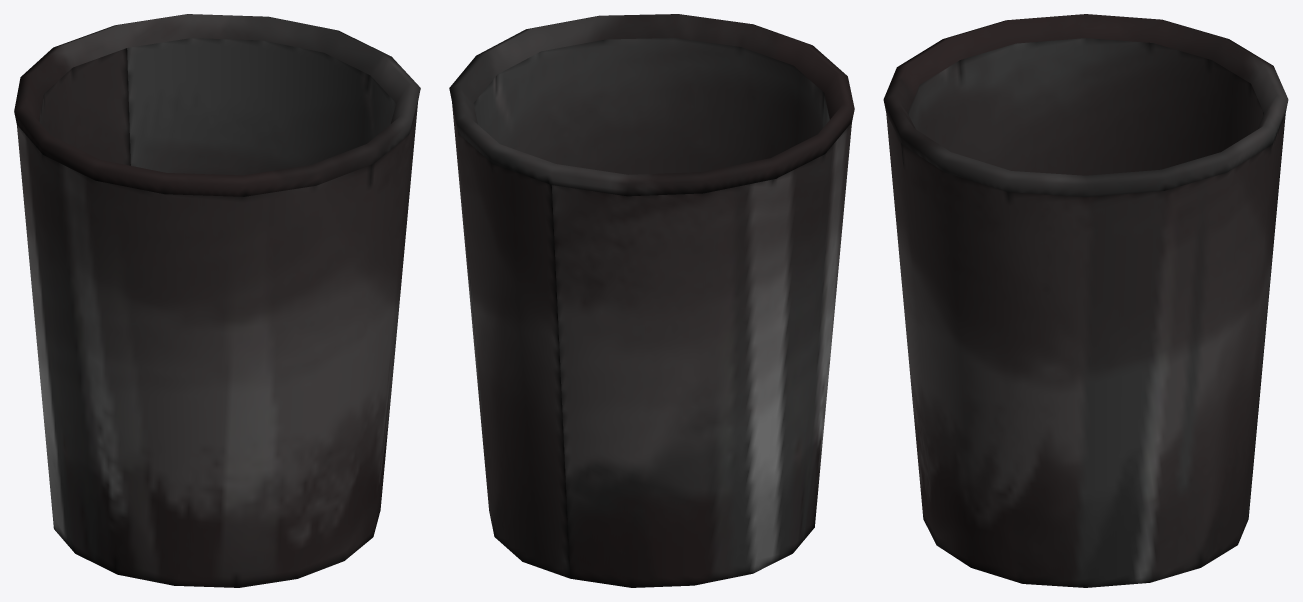
The model's file is TrashCan_Asset.fbx.
The picture shows the model from 3 angles, left to right: view 1: azimuth 30°, elevation 25°; view 2: azimuth 150°, elevation 25°; view 3: azimuth 270°, elevation 25°; orthographic projection.
Visible parts, largest first — view 1: TrashCan; view 2: TrashCan; view 3: TrashCan.
Part boxes in pixels (<box>): TrashCan: <box>14,14,420,587</box>; TrashCan: <box>449,14,854,587</box>; TrashCan: <box>883,14,1288,587</box>.
Bounding box in the file's own units: 23.73 × 23.73 × 27.43.
